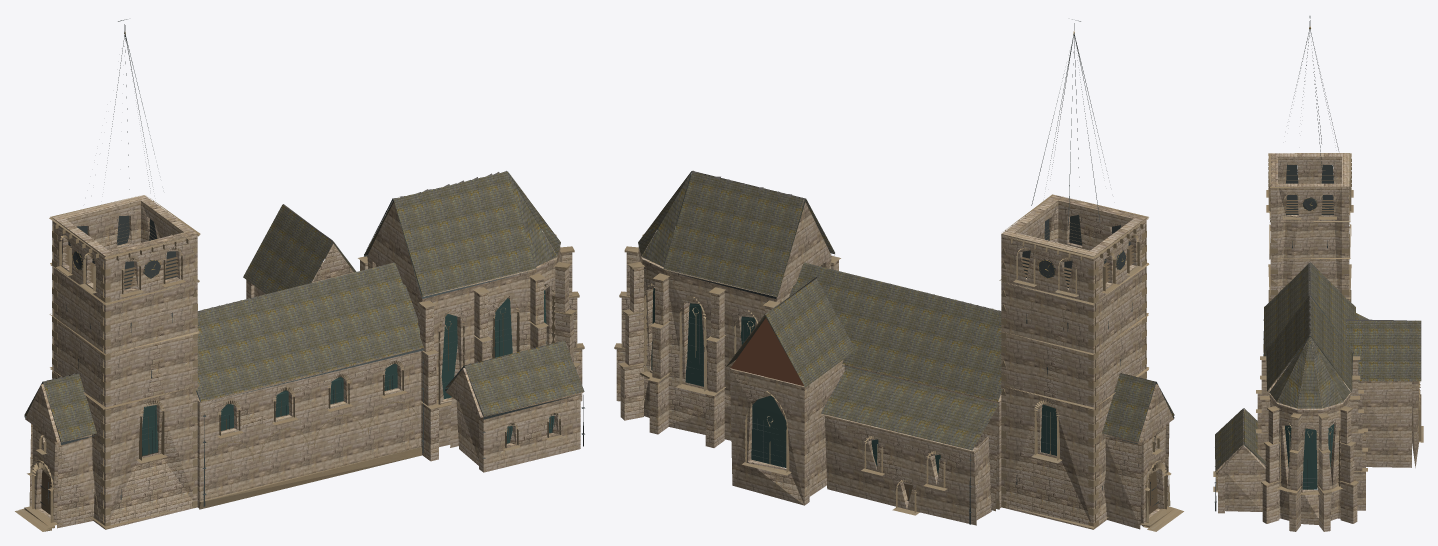
Rendered from church-lod2.fbx.
3 views of the same model, side by side, from view 1: azimuth 30°, elevation 25°; view 2: azimuth 150°, elevation 25°; view 3: azimuth 270°, elevation 25° (orthographic). The views are drawn at different scales.
Visible parts, largest first — view 1: ChurchBody_LOD2, Sacristy - added 1786_LOD2; view 2: ChurchBody_LOD2; view 3: ChurchBody_LOD2, Sacristy - added 1786_LOD2.
Part boxes in pixels (<box>): ChurchBody_LOD2: <box>15,19,584,531</box>; Sacristy - added 1786_LOD2: <box>445,340,584,472</box>; ChurchBody_LOD2: <box>614,19,1183,531</box>; ChurchBody_LOD2: <box>1214,16,1423,531</box>; Sacristy - added 1786_LOD2: <box>1213,408,1265,513</box>.
Size of the model in its own units: 4377 by 3728 by 1983.
